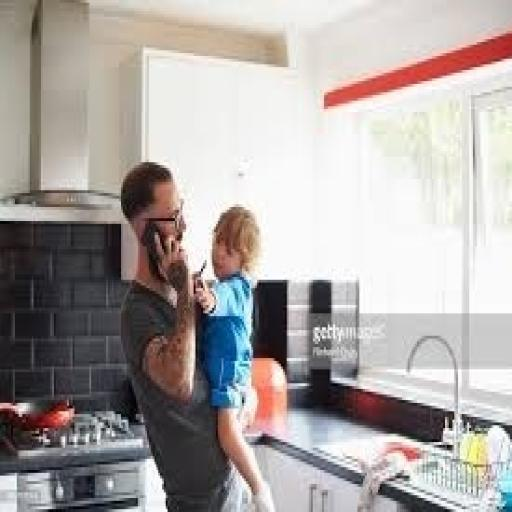calling: (116, 157, 278, 509)
